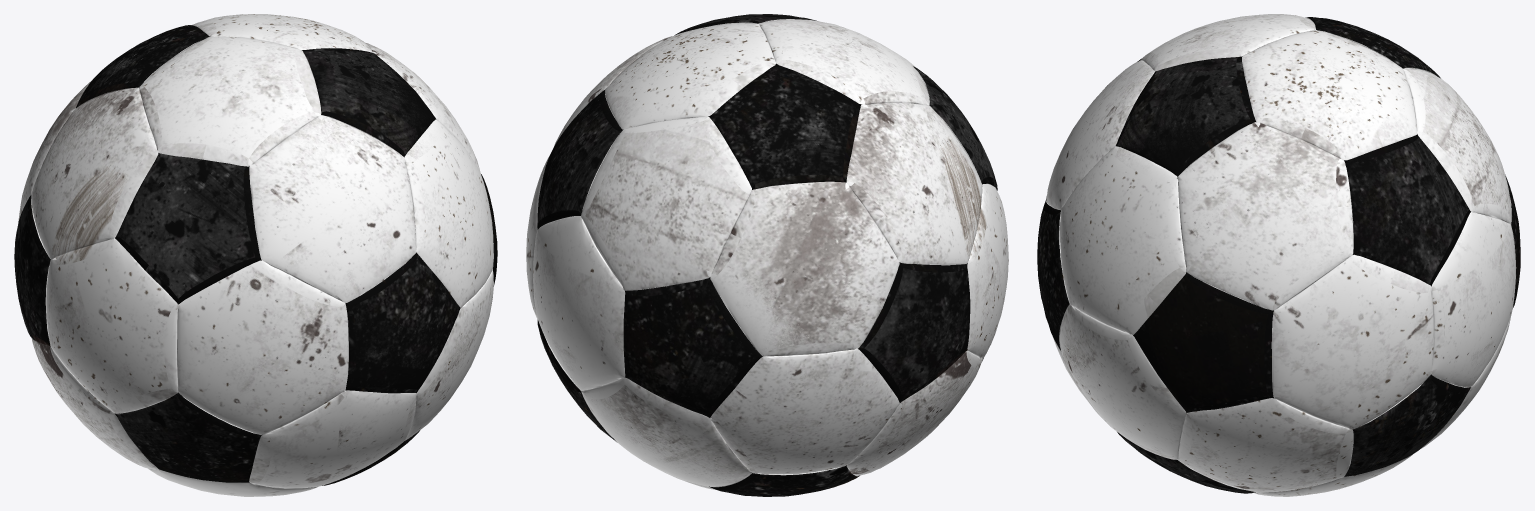
File: Ball.fbx
The picture shows the model from 3 angles, left to right: view 1: azimuth 30°, elevation 25°; view 2: azimuth 150°, elevation 25°; view 3: azimuth 270°, elevation 25°; orthographic projection.
Visible parts, largest first — view 1: Ball; view 2: Ball; view 3: Ball.
Boxes of the visible parts, box(x1,y1,x2,y2) form: Ball: box(14, 14, 497, 496); Ball: box(526, 14, 1008, 496); Ball: box(1037, 14, 1520, 496).
Bounding box in the file's own units: 22.01 × 22 × 22.13.
2 materials, 2 textured.
